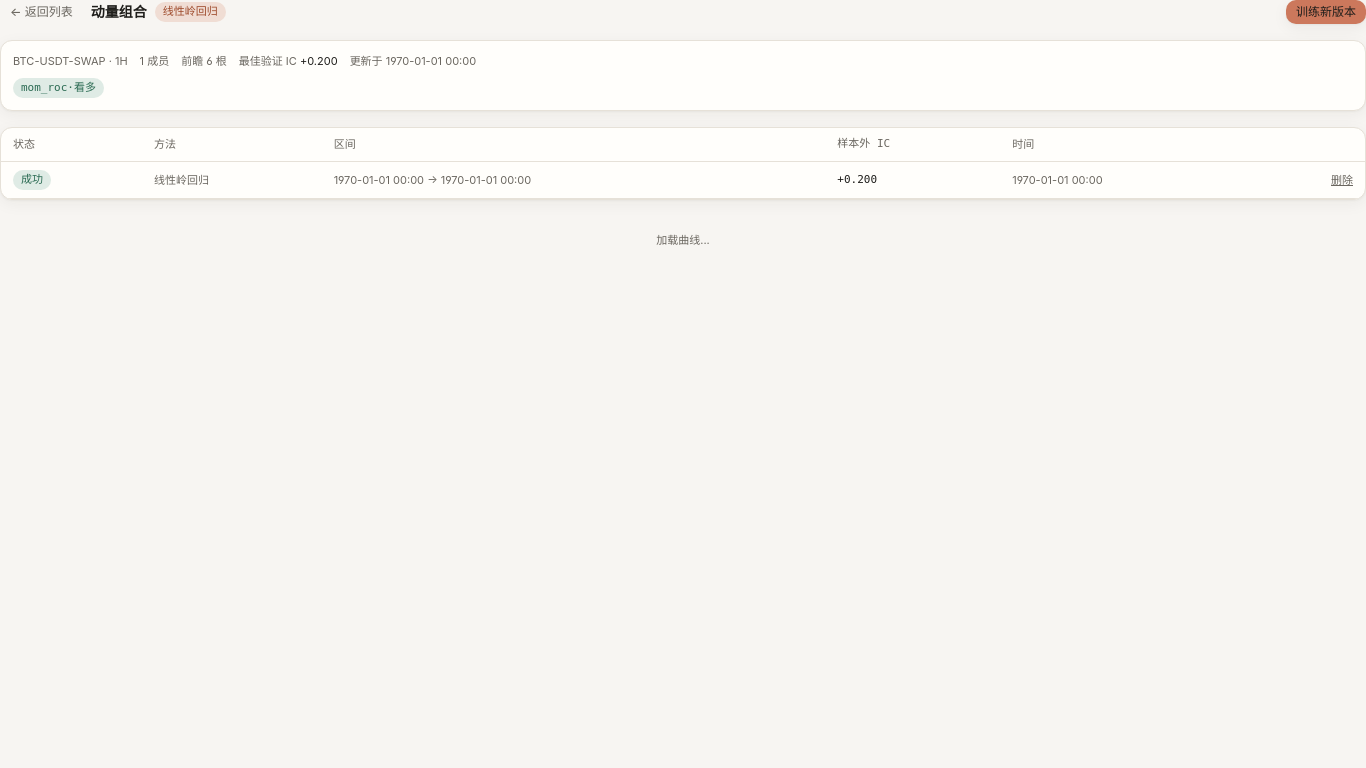
Test: WeightModelDetail — 轮询 / 缓存失效 / 错误码（G-F2/G-F4/G-F6/G-T7） › surfaces an in-app notice when delete run fails with 409 running (G-F4)
Click the button "删除" at [1342, 180], box [1331,172,1353,188]
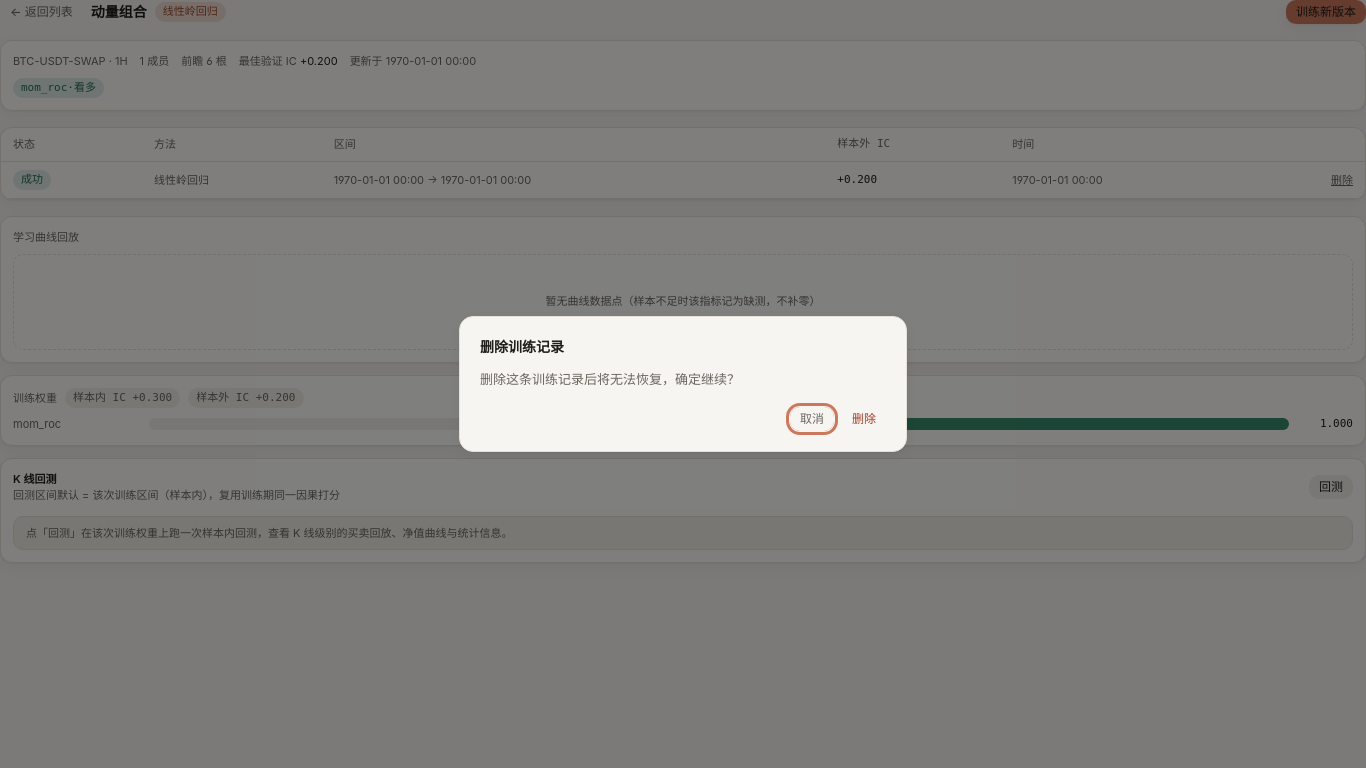
Click the button "删除" at [864, 419], box [842,407,886,431]
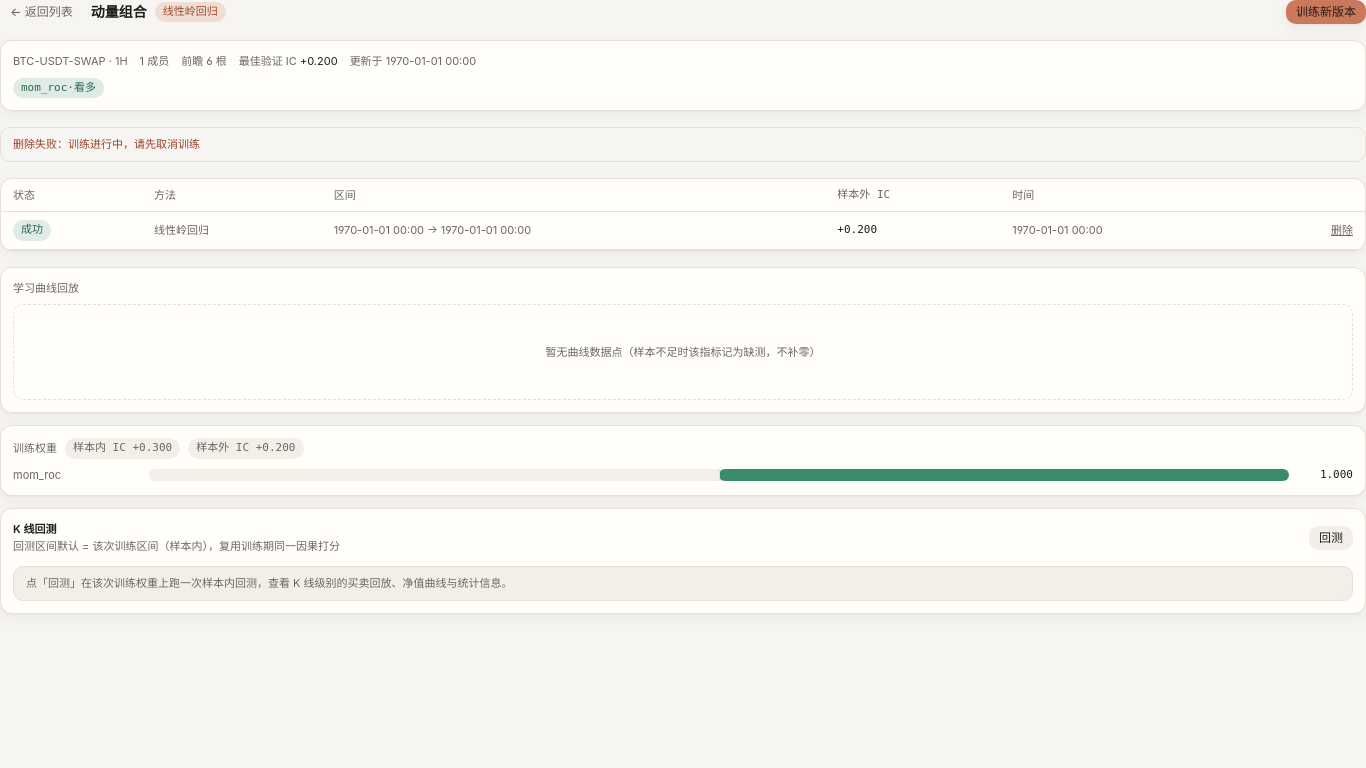
Expected: the text "删除失败：训练进行中，请先取消训练" is shown, [0,127,1365,162]
